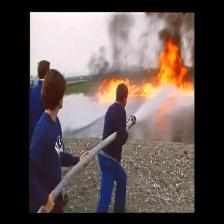fire: (106, 51, 192, 95)
smoke: (152, 12, 192, 46), (110, 15, 133, 45)
